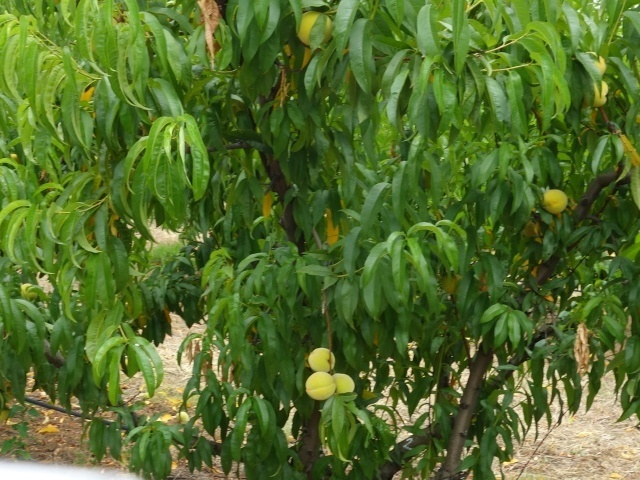peach: (291, 7, 332, 48), (304, 369, 337, 405), (304, 343, 336, 376), (539, 184, 570, 216), (325, 368, 356, 399), (586, 81, 613, 112)
